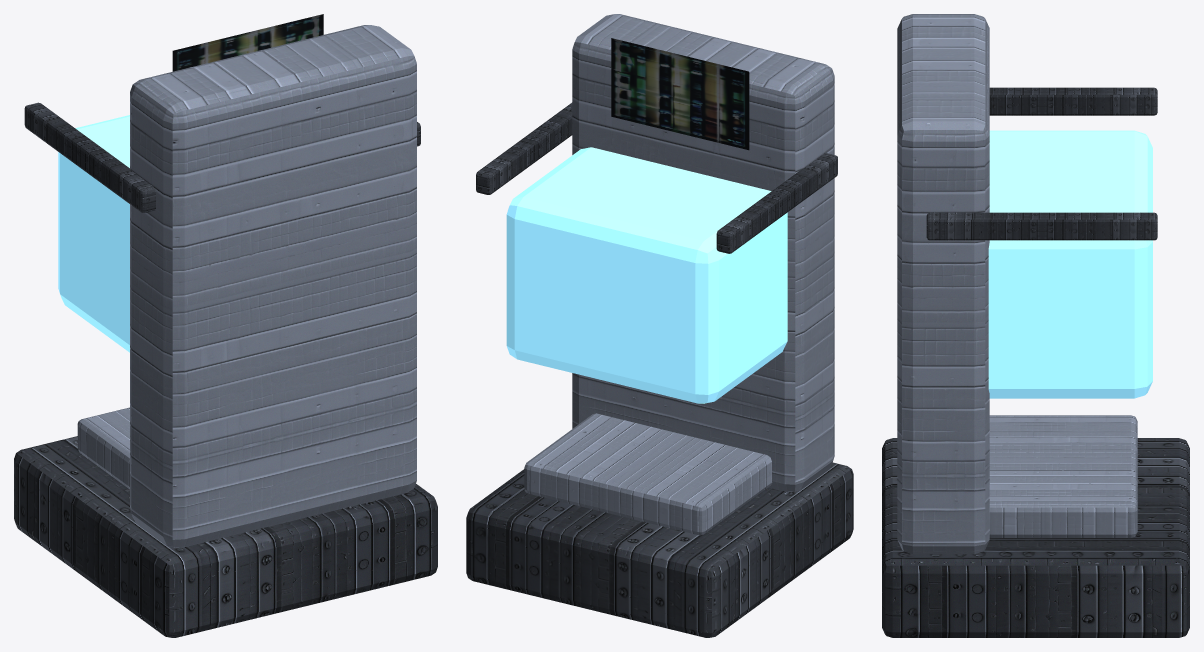
The model's file is device_pod.glb.
The picture shows the model from 3 angles, left to right: view 1: azimuth 30°, elevation 25°; view 2: azimuth 150°, elevation 25°; view 3: azimuth 270°, elevation 25°; orthographic projection. The views are drawn at different scales.
Parts seen in each view (by area): view 1: back, base, canopy, rail_-1, display, mattress; view 2: canopy, back, base, mattress, display, rail_-1, rail_1; view 3: back, canopy, base, mattress, rail_1, rail_-1.
Part boxes in pixels (<box>): back: <box>130,25,416,547</box>; base: <box>14,436,437,637</box>; canopy: <box>58,115,129,352</box>; rail_-1: <box>24,102,155,212</box>; display: <box>172,14,323,71</box>; mattress: <box>77,407,129,489</box>; canopy: <box>506,147,787,403</box>; back: <box>572,14,834,491</box>; base: <box>466,462,853,637</box>; mattress: <box>524,413,772,535</box>; display: <box>611,38,749,150</box>; rail_-1: <box>716,153,837,253</box>; rail_1: <box>476,102,572,194</box>; back: <box>897,14,989,554</box>; canopy: <box>988,130,1152,398</box>; base: <box>882,438,1189,637</box>; mattress: <box>989,415,1137,537</box>; rail_1: <box>926,212,1157,240</box>; rail_-1: <box>989,87,1157,115</box>.
Size of the model in its own units: 1.02 by 1.87 by 1.
4 materials, 3 textured.
